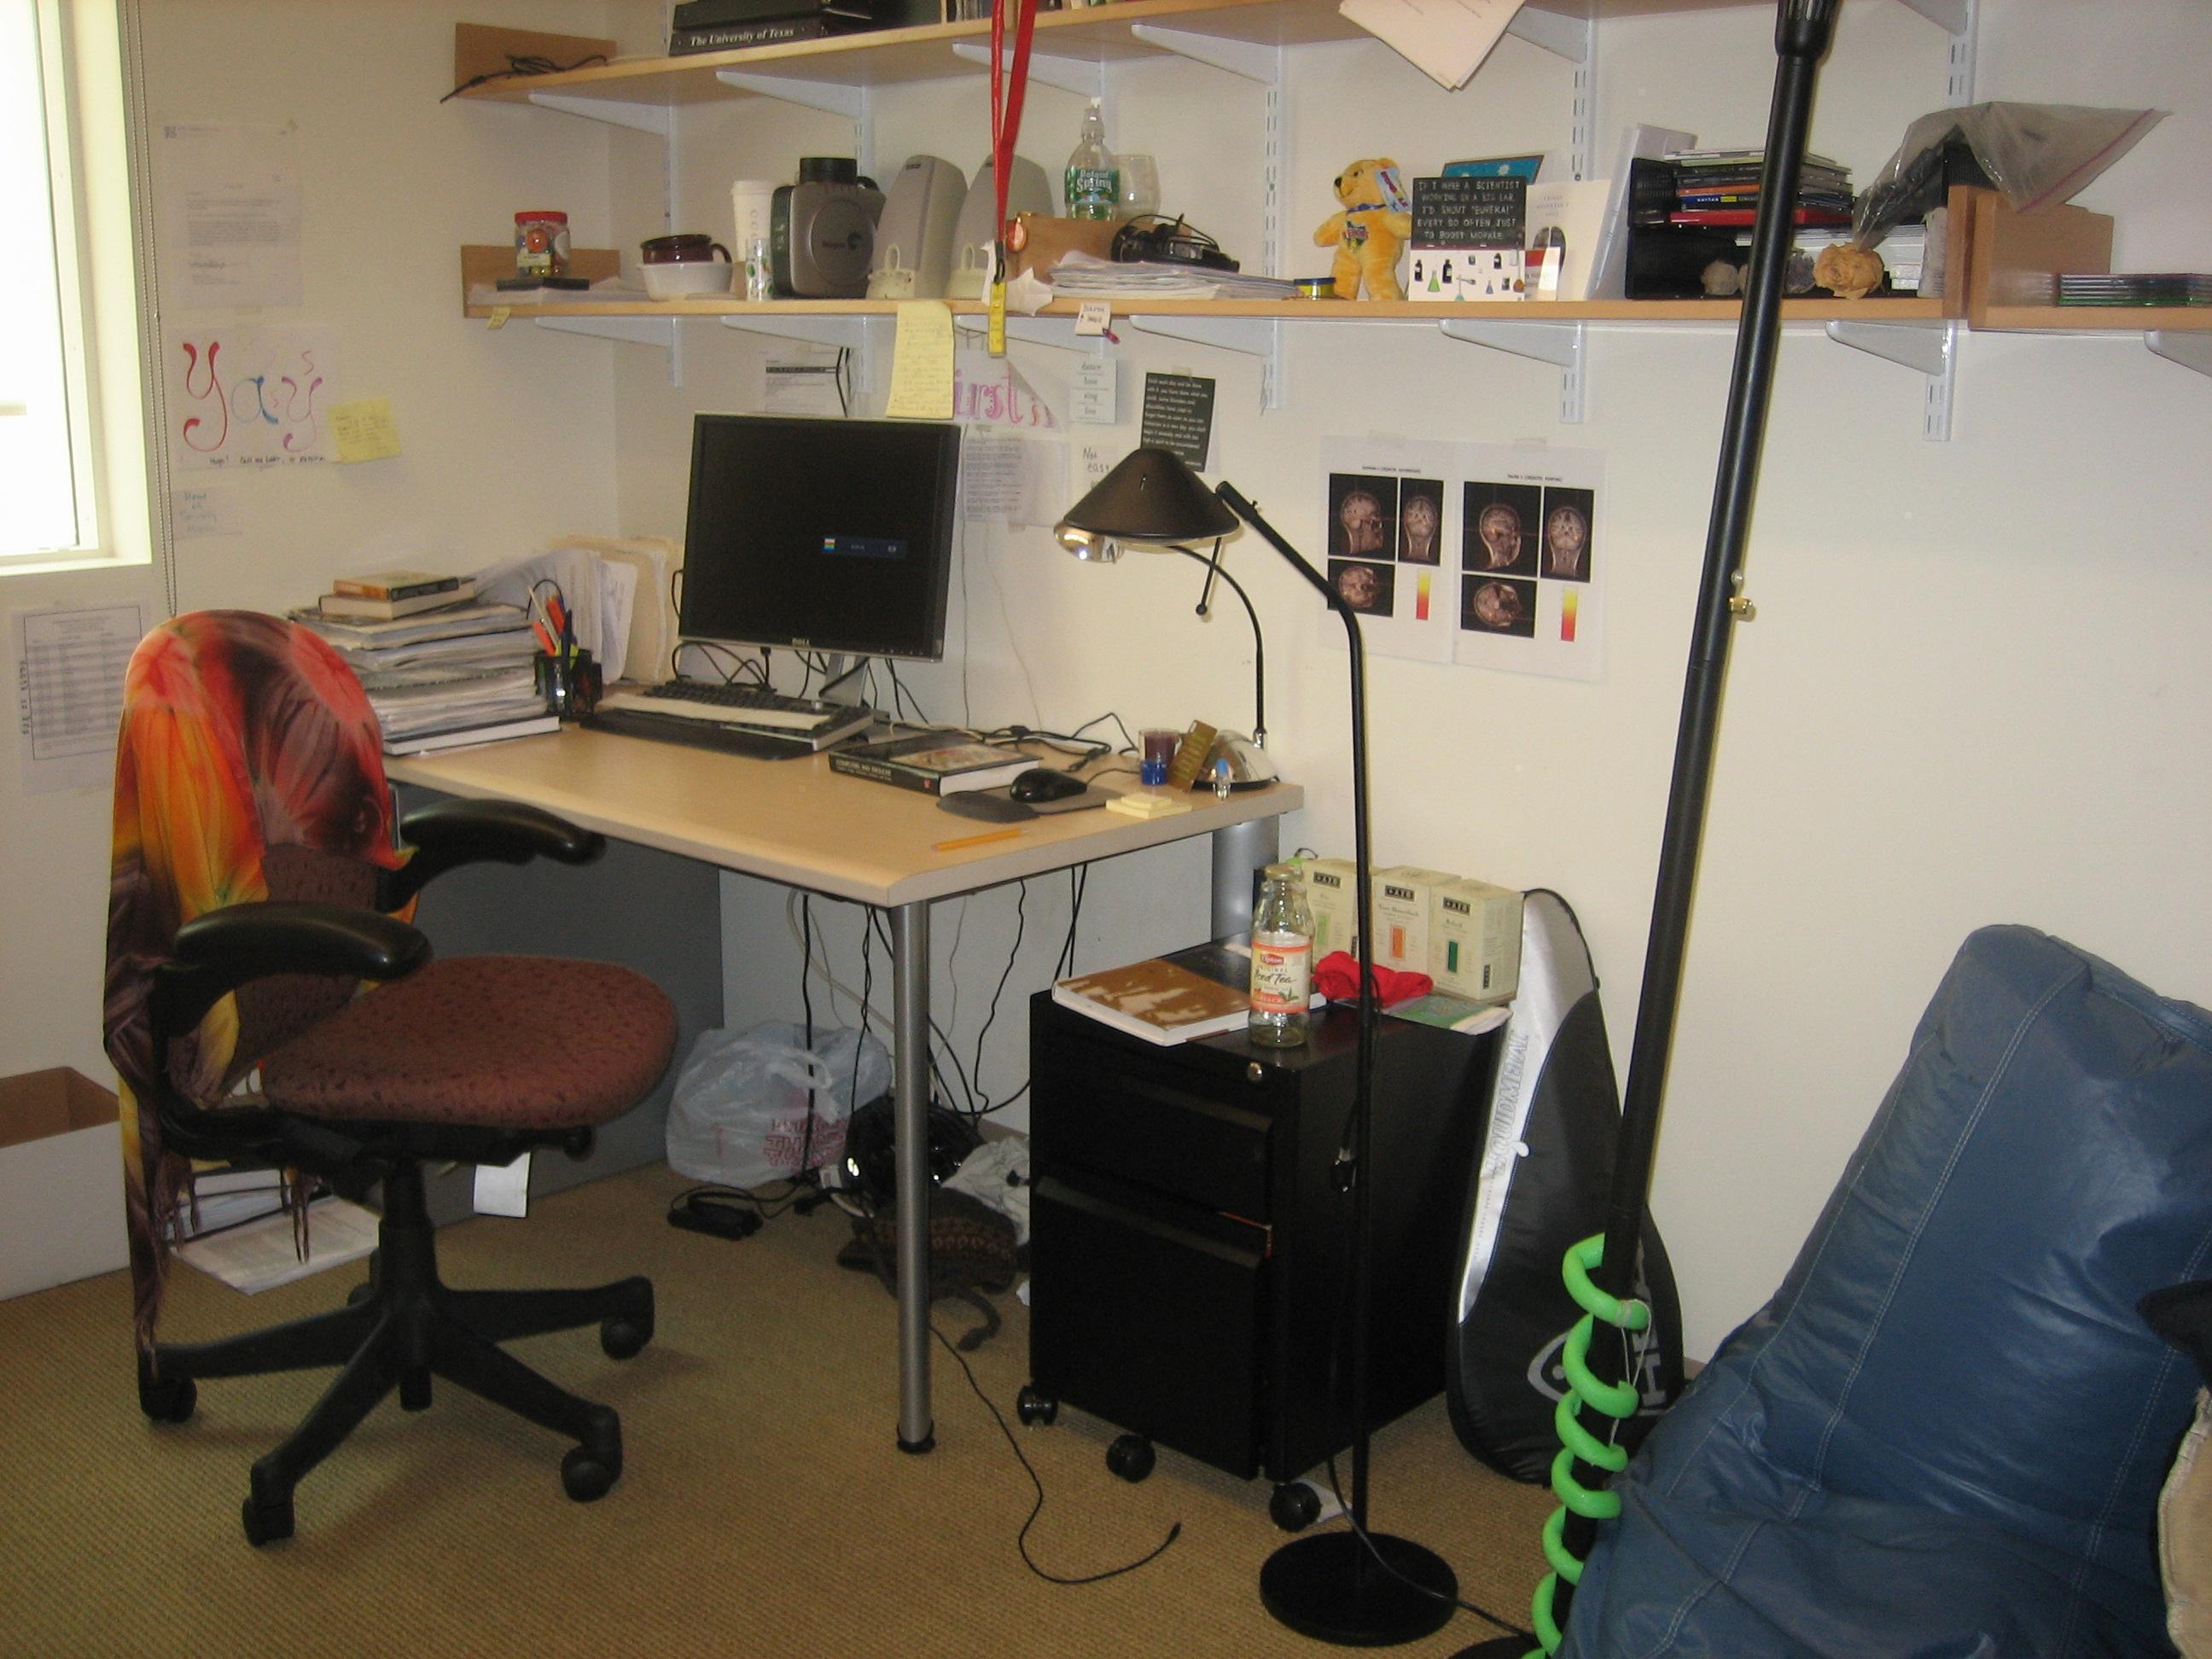Otro Obstaculo: (1606, 927, 2188, 1654)
